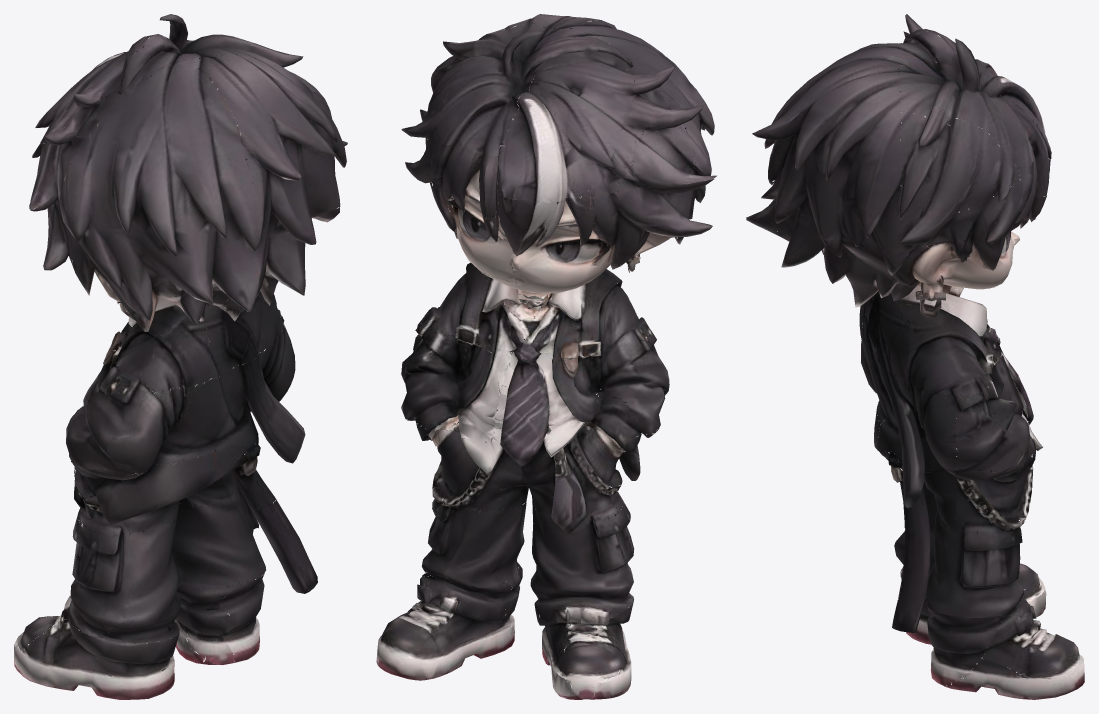
The model's file is resident-hi3d.glb.
The picture shows the model from 3 angles, left to right: view 1: azimuth 30°, elevation 25°; view 2: azimuth 150°, elevation 25°; view 3: azimuth 270°, elevation 25°; orthographic projection. The views are drawn at different scales.
Parts seen in each view (by area): view 1: tmpap2ok8t6obj; view 2: tmpap2ok8t6obj; view 3: tmpap2ok8t6obj.
Boxes of the visible parts, x1,y1,x2,y2 form: tmpap2ok8t6obj: (14, 14, 347, 699); tmpap2ok8t6obj: (376, 14, 716, 699); tmpap2ok8t6obj: (746, 14, 1084, 699).
Size of the model in its own units: 0.8363 by 1.65 by 0.8336.
Materials: 1 (1 with a texture image).
